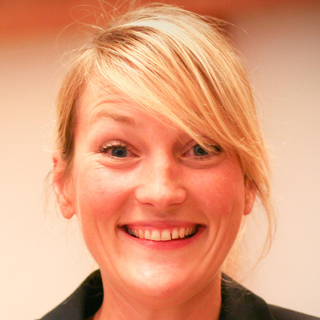eye: (176, 134, 226, 164), (92, 138, 143, 163)
